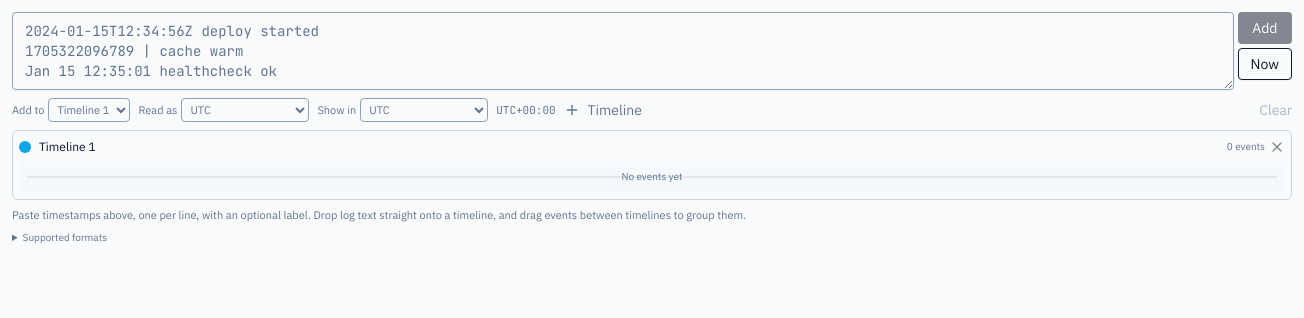
Test: TimelineBuilderWidget › captures the current instant with the Now button
Select "UTC" in the dropdown named "display time zone": (424, 110) x1=360 y1=98 x2=488 y2=122
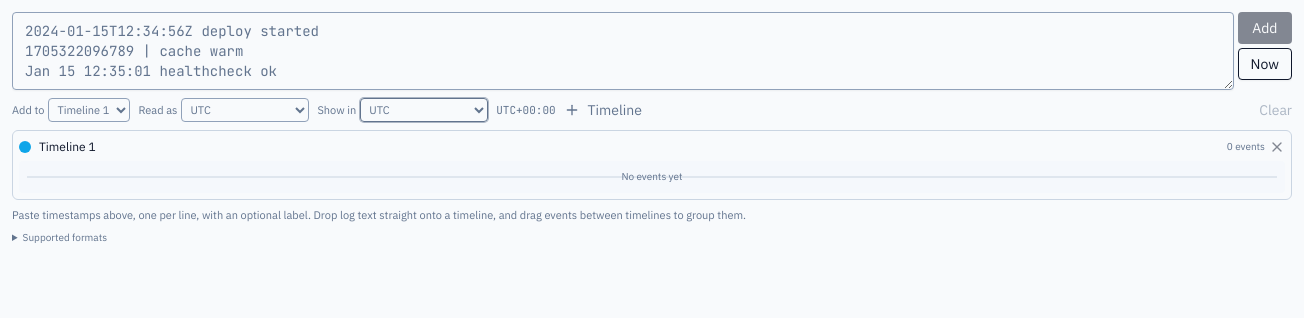
Select "UTC" in the dropdown named "input time zone": (245, 110) x1=181 y1=98 x2=309 y2=122
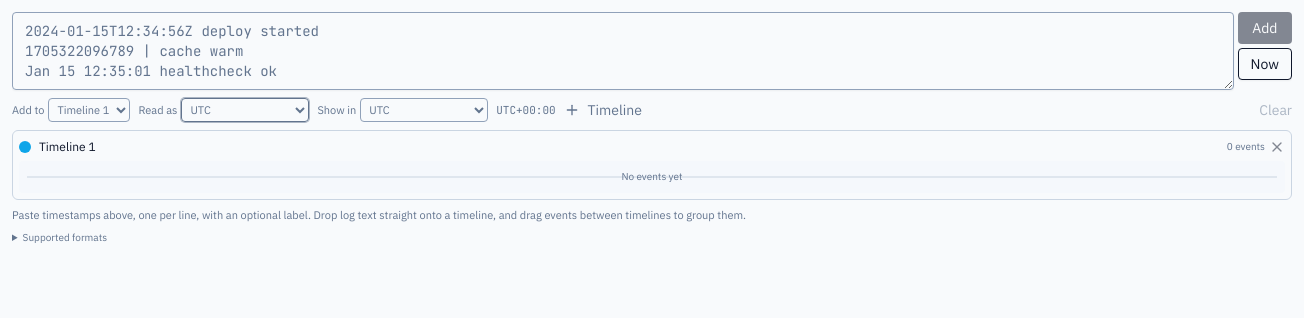
Click the button "Now": click(1265, 64) x1=1238 y1=48 x2=1292 y2=80
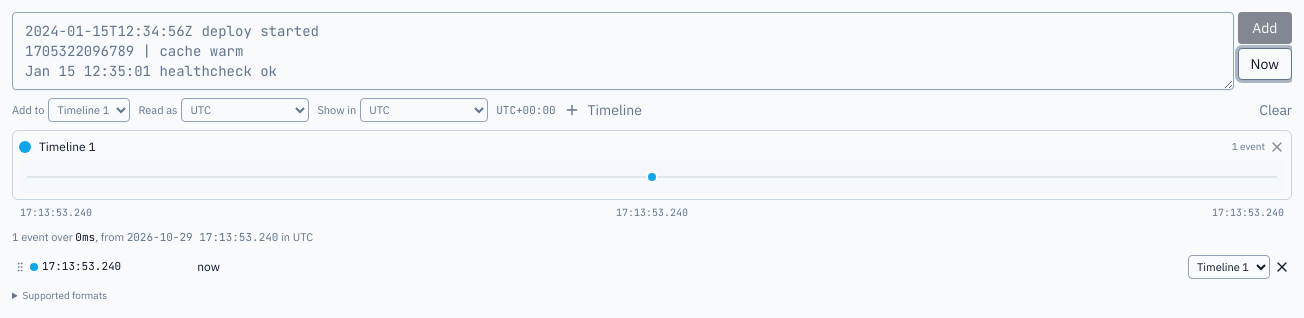
expect the field showing "now" is shown: met, box x1=193 y1=257 x2=1184 y2=277
